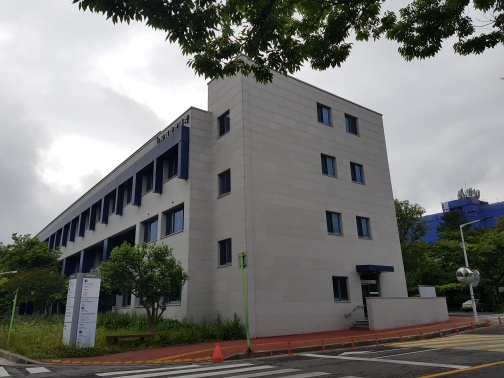College of Social Sciences: (28, 63, 448, 333), (53, 123, 188, 247), (317, 259, 426, 329)
